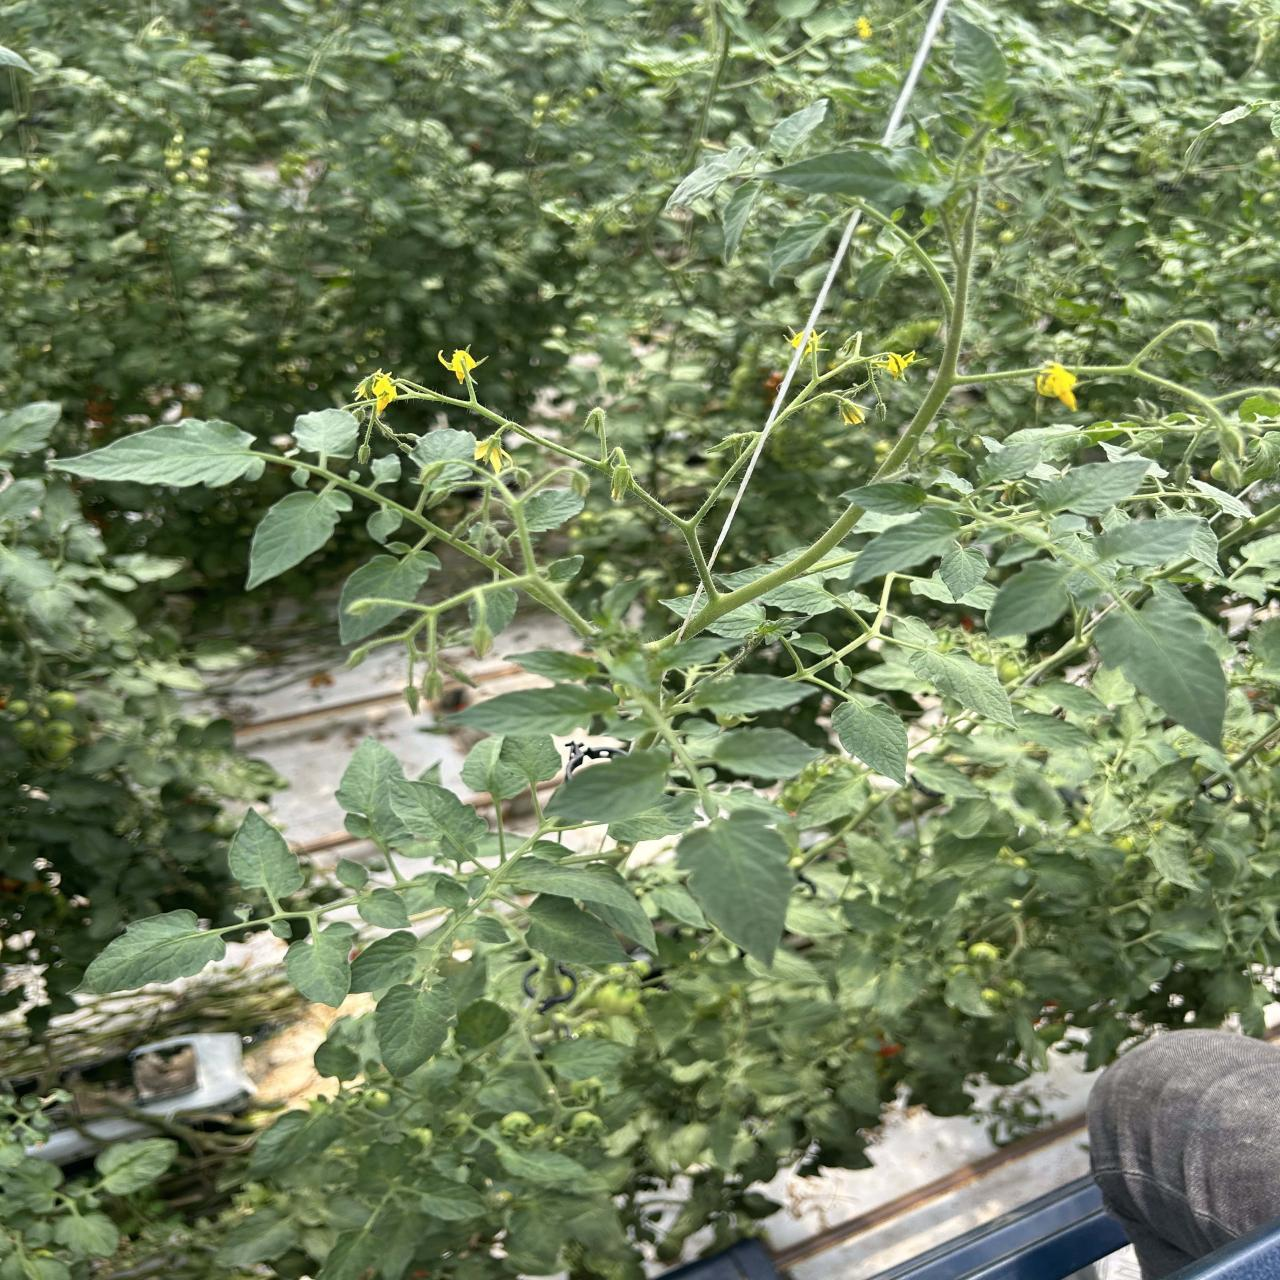Flor: (355, 370, 399, 420), (1036, 363, 1076, 410), (437, 347, 483, 383), (474, 431, 508, 475), (869, 350, 915, 380), (838, 399, 865, 424)
Hoja: (1094, 597, 1225, 747), (676, 808, 796, 966), (505, 849, 654, 949), (50, 418, 265, 486), (77, 910, 225, 993), (336, 741, 437, 853), (246, 490, 350, 590), (545, 748, 670, 824), (340, 551, 440, 645), (850, 508, 960, 587), (451, 685, 618, 736), (388, 779, 489, 860), (525, 894, 629, 969), (910, 651, 1013, 726), (375, 981, 456, 1076), (229, 809, 304, 905), (1035, 459, 1152, 517), (987, 558, 1069, 636), (832, 700, 907, 783), (707, 727, 824, 779), (1096, 515, 1216, 566), (285, 922, 359, 1005), (693, 674, 817, 715), (842, 483, 926, 532), (350, 931, 417, 993), (292, 409, 360, 458), (939, 543, 988, 602), (523, 486, 584, 532), (978, 442, 1042, 483), (410, 428, 476, 467), (358, 887, 409, 928), (431, 874, 471, 911), (467, 914, 509, 944), (335, 859, 370, 893)
Pedunculo: (223, 449, 598, 634), (873, 191, 978, 479), (408, 484, 599, 638), (676, 501, 863, 639)
